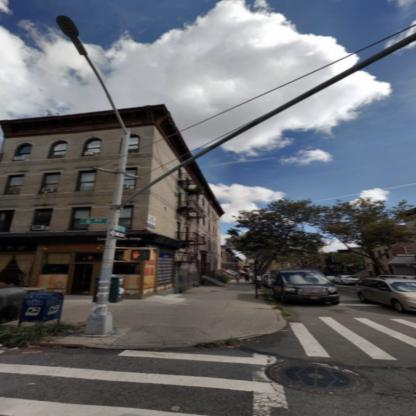Streetlights 1: (44, 9, 175, 356)
